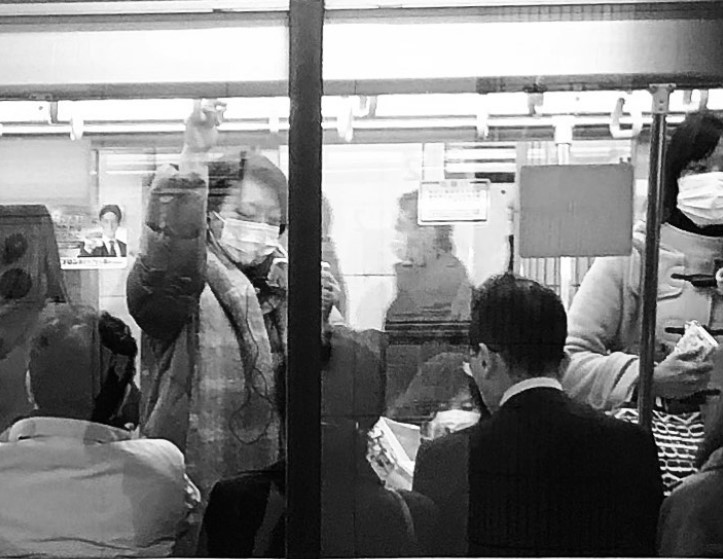face_with_mask: (202, 152, 289, 270), (669, 110, 723, 229)
